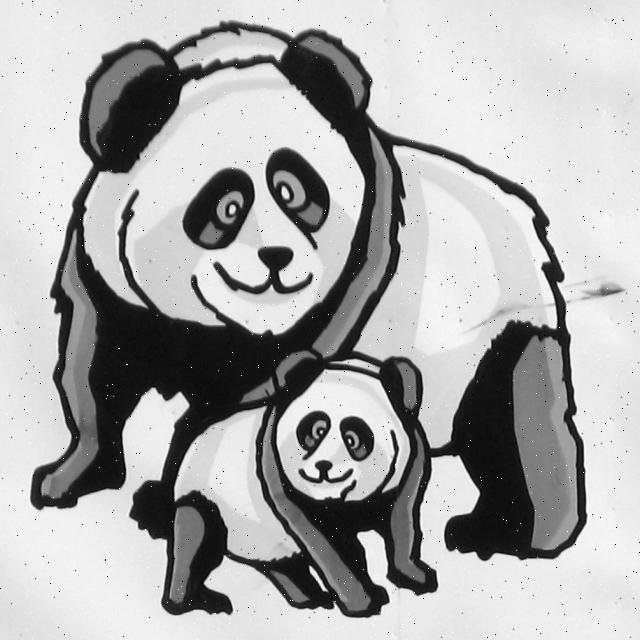panda: (30, 16, 582, 563), (156, 350, 440, 615)
